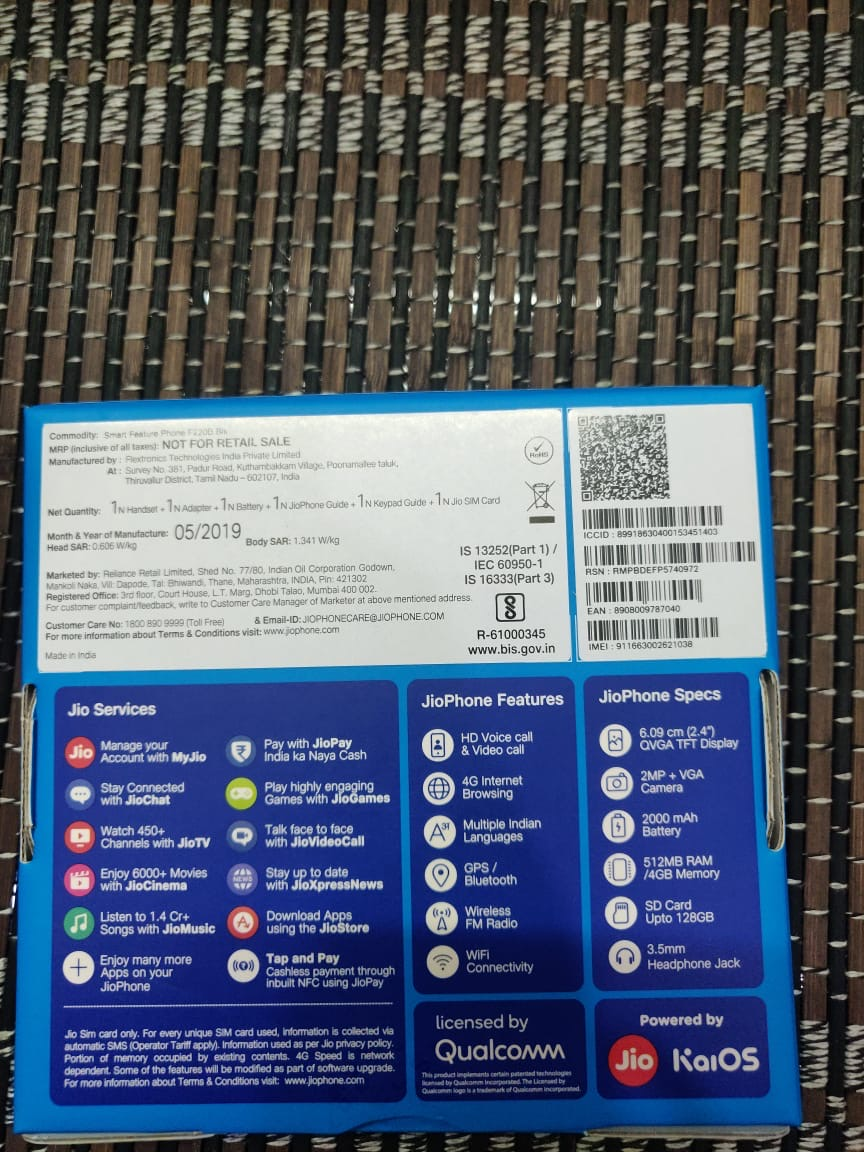barcode: (580, 504, 763, 654)
